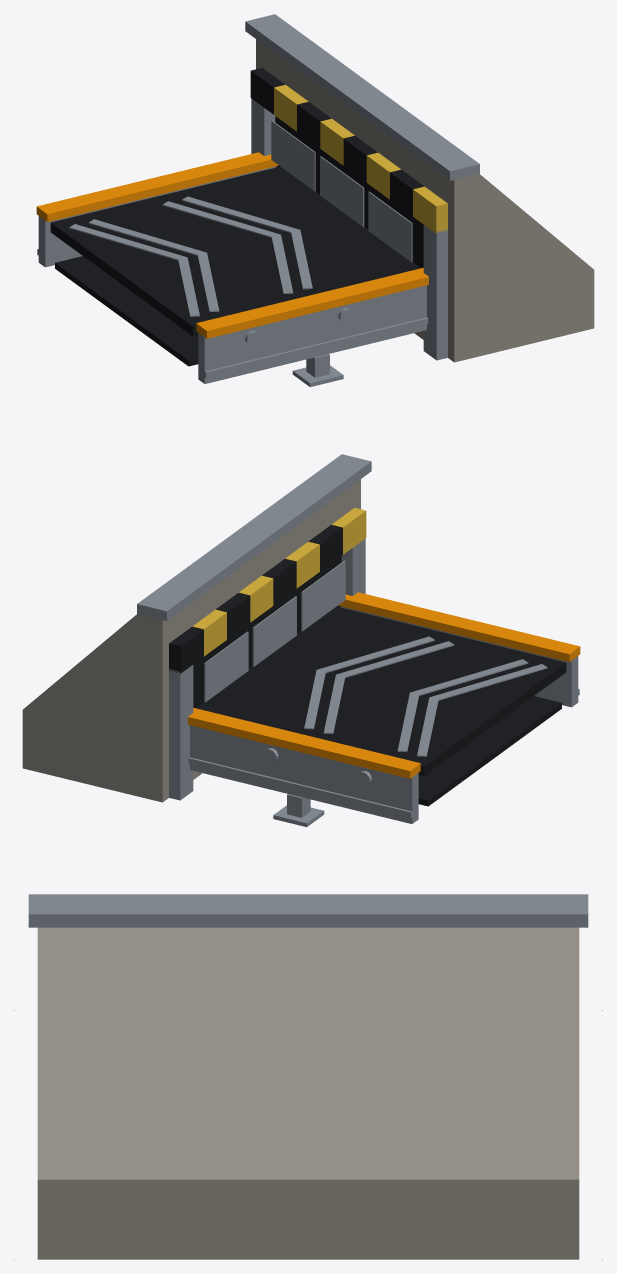
File: convoyeur_tunnel_entree_t2.glb
3 renders of one model, top to bottom at view 1: azimuth 30°, elevation 25°; view 2: azimuth 150°, elevation 25°; view 3: azimuth 270°, elevation 25°, orthographic. The views are drawn at different scales.
Visible parts, largest first — view 1: pieces_noir.024, pieces_acier.048, bouche.012, pieces_rive_t2.006, bande_acier.042, pieces_jaune.018; view 2: pieces_noir.024, pieces_acier.048, bouche.012, pieces_rive_t2.006, bande_acier.042, pieces_jaune.018; view 3: bouche.012, pieces_acier.048.
Boxes of the visible parts, box(x1,y1,x2,y2) form: pieces_noir.024: box(50, 68, 424, 366); pieces_acier.048: box(37, 14, 479, 386); bouche.012: box(256, 39, 594, 362); pieces_rive_t2.006: box(36, 152, 428, 338); bande_acier.042: box(69, 196, 312, 316); pieces_jaune.018: box(274, 85, 447, 233); pieces_noir.024: box(169, 525, 566, 806); pieces_acier.048: box(137, 454, 579, 826); bouche.012: box(22, 479, 360, 802); pieces_rive_t2.006: box(188, 592, 580, 778); bande_acier.042: box(304, 636, 547, 756); pieces_jaune.018: box(192, 508, 366, 656); bouche.012: box(37, 927, 579, 1259); pieces_acier.048: box(28, 894, 588, 927).
Size of the model in its own units: 1 by 0.5 by 1.
